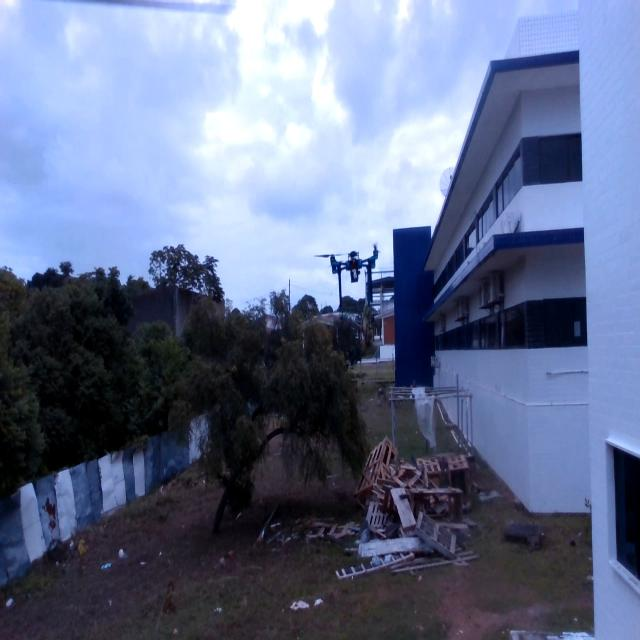-uav-: (311, 234, 388, 317)
